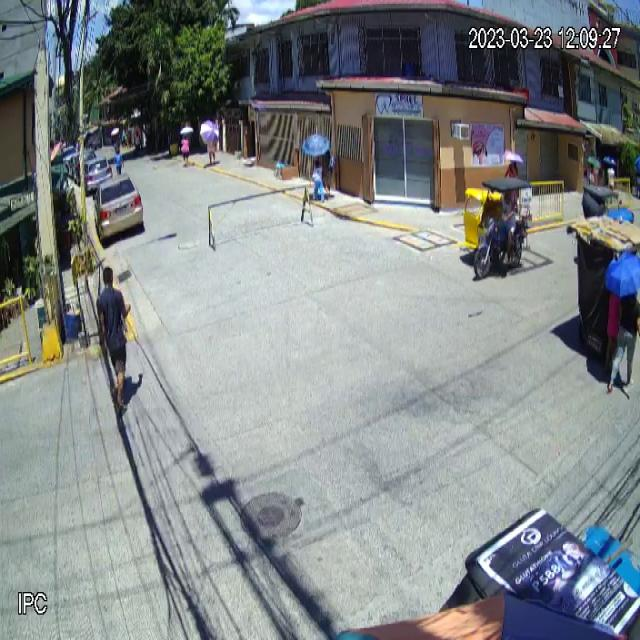Car: (93, 175, 143, 243)
Tricycle: (460, 178, 530, 280)
